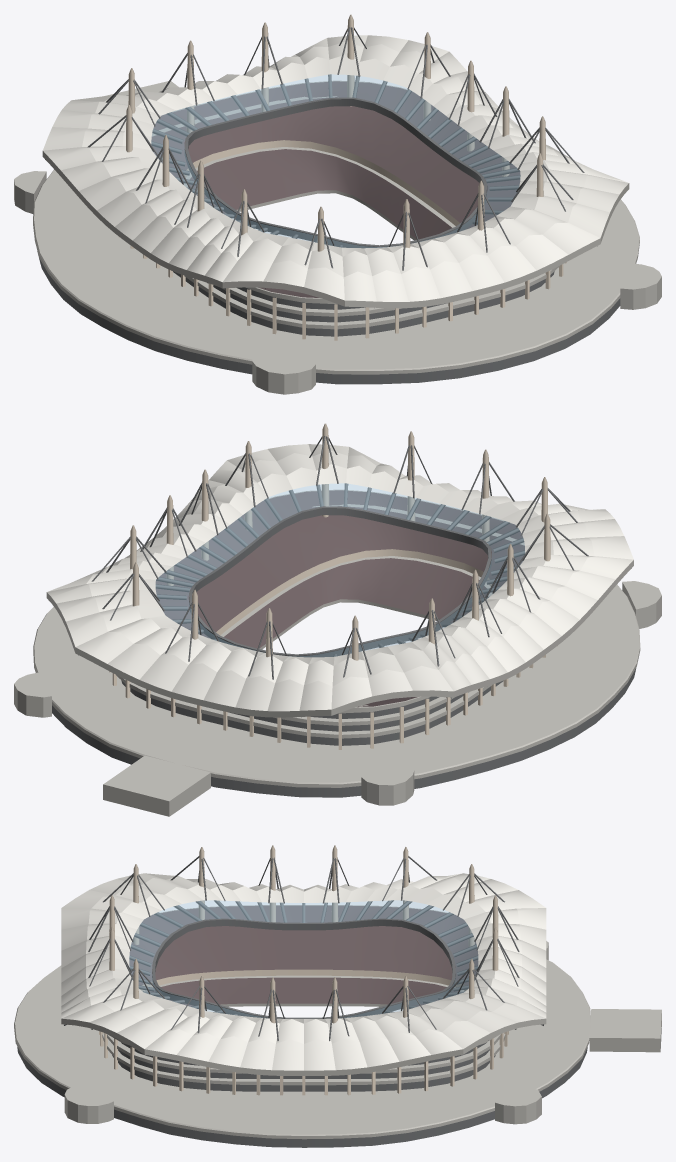
The model's file is seoul-world-cup-stadium.glb.
3 renders of one model, top to bottom at view 1: azimuth 30°, elevation 25°; view 2: azimuth 150°, elevation 25°; view 3: azimuth 270°, elevation 25°, orthographic. The views are drawn at different scales.
Visible parts, largest first — view 1: Seoul World Cup Stadium; view 2: Seoul World Cup Stadium; view 3: Seoul World Cup Stadium.
Part boxes in pixels (x1,y1,x2,y2): Seoul World Cup Stadium: [14, 14, 661, 394]; Seoul World Cup Stadium: [14, 423, 661, 816]; Seoul World Cup Stadium: [14, 845, 661, 1147].
Size of the model in its own units: 279 by 73 by 341.
